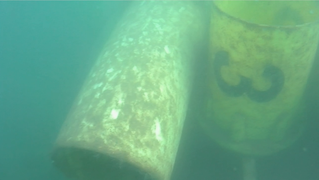3: (213, 50, 285, 102)
pipe: (48, 1, 208, 179), (194, 1, 319, 158)
